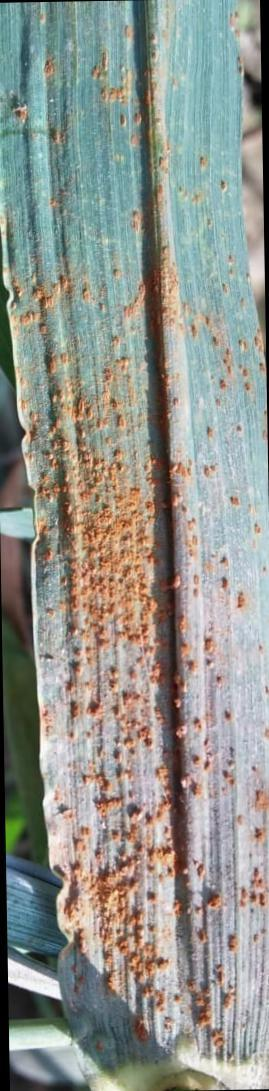Corn: (16, 246, 261, 999)
